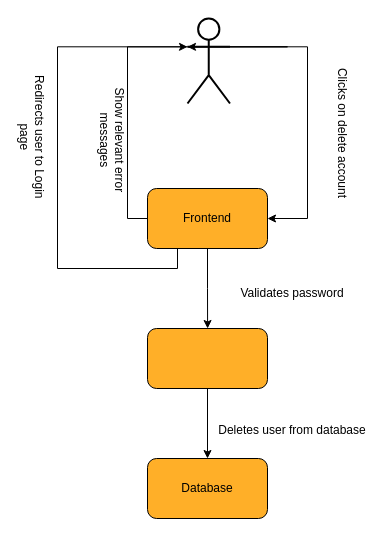
The diagram is 384 pixels wide and 536 high, and some of its shapes have lost their labels. Here are the shapes that lost their labels. From the top down, the centre of each, then its label:
(x=208, y=60): Registered User
(x=207, y=358): REST API
